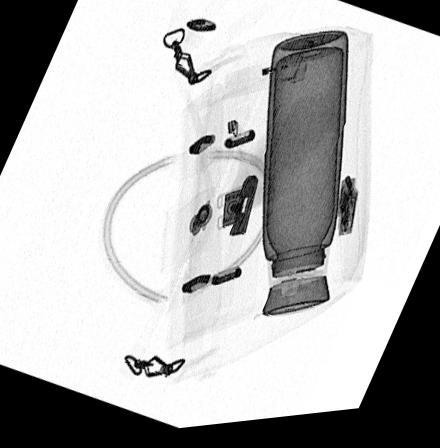Lighter: (224, 64, 308, 103)
